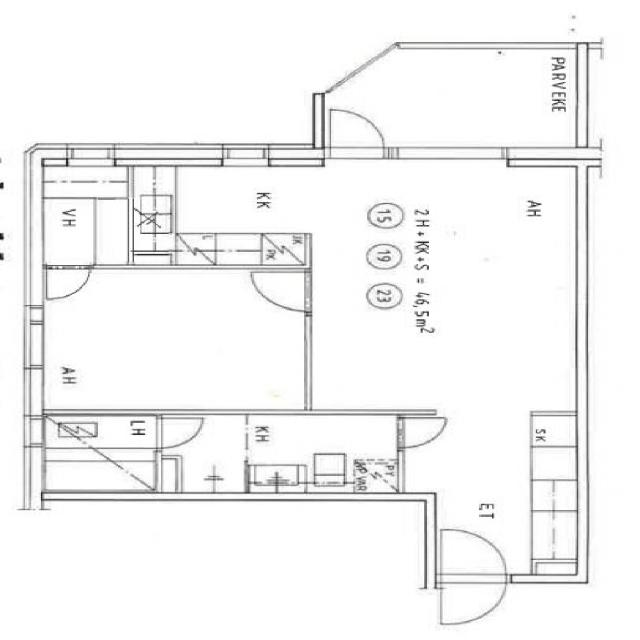door: (441, 575, 508, 631), (441, 528, 508, 584), (330, 109, 386, 159), (250, 272, 312, 312), (46, 265, 90, 300), (398, 418, 448, 448), (157, 418, 203, 448)
